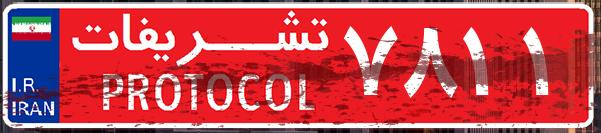1: (460, 20, 520, 115), (520, 20, 580, 115)
7: (340, 20, 400, 115)
8: (400, 20, 460, 115)
تشریفات: (60, 8, 340, 125)
